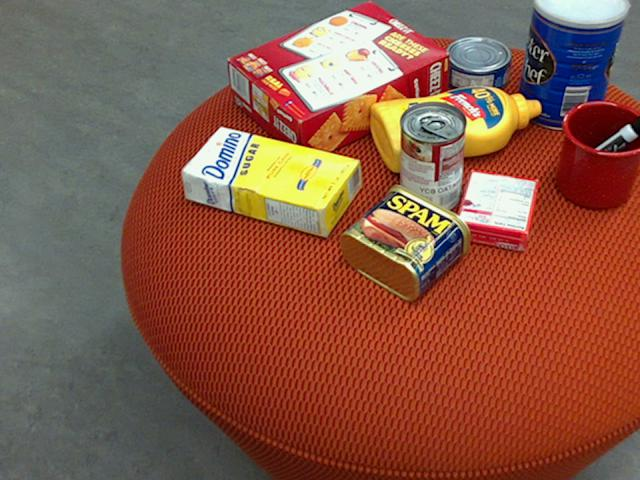cracker_box: (226, 0, 448, 163)
gelatin_box: (455, 170, 540, 252)
large_marker: (559, 113, 639, 185)
master_chef_can: (516, 0, 629, 129)
mug: (556, 99, 639, 208)
mustard_bottle: (369, 86, 541, 171)
potted_meat_can: (339, 183, 469, 300)
sugar_box: (179, 125, 360, 238)
tomato_soup_can: (398, 99, 465, 214)
tuna_fish_can: (441, 36, 511, 92)
